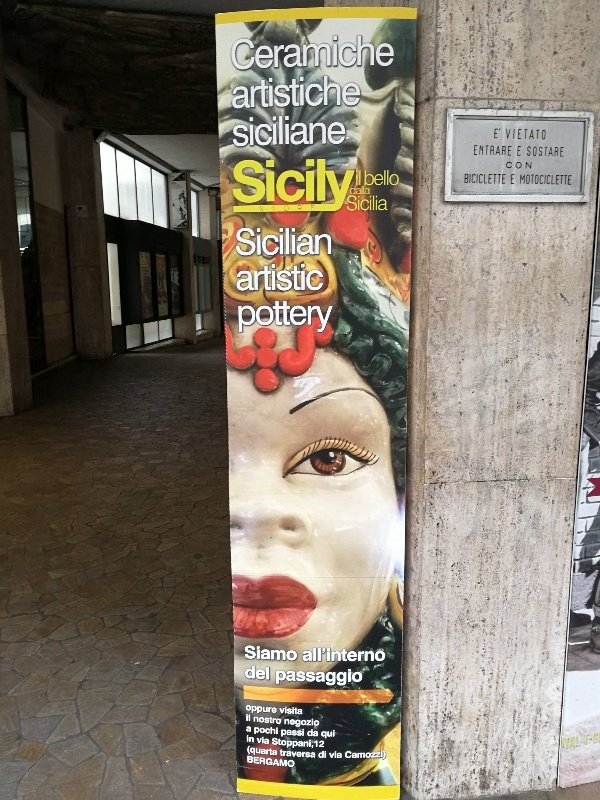text: (241, 159, 256, 216), (257, 159, 272, 216), (273, 159, 288, 216), (289, 159, 304, 216), (305, 159, 320, 216), (321, 159, 336, 216), (337, 159, 352, 216), (241, 32, 256, 72), (257, 32, 272, 72), (273, 32, 288, 72), (289, 32, 304, 72), (305, 32, 320, 72), (321, 32, 336, 72), (337, 32, 352, 72), (353, 32, 368, 72), (369, 32, 384, 72), (241, 298, 256, 336), (257, 298, 272, 336), (273, 298, 288, 336), (289, 298, 304, 336), (305, 298, 320, 336), (241, 114, 256, 150), (257, 114, 272, 150), (273, 114, 288, 150), (289, 114, 304, 150), (305, 114, 320, 150), (321, 114, 336, 150), (241, 260, 256, 296), (257, 260, 272, 296), (273, 260, 288, 296), (289, 260, 304, 296), (305, 260, 320, 296), (321, 298, 335, 336), (241, 78, 256, 112), (257, 78, 272, 112), (273, 78, 288, 112), (289, 78, 304, 112), (305, 78, 320, 112), (321, 78, 336, 112), (337, 78, 352, 112), (241, 226, 256, 258), (257, 226, 272, 258), (273, 226, 288, 258), (289, 226, 304, 258), (305, 226, 320, 258), (385, 32, 395, 72), (233, 159, 240, 216), (321, 226, 332, 258), (337, 114, 346, 150), (232, 32, 240, 72), (353, 78, 362, 112), (353, 159, 358, 216), (289, 669, 304, 688), (305, 669, 320, 688), (321, 669, 336, 688), (337, 669, 352, 688), (232, 78, 240, 112), (353, 194, 368, 212), (369, 194, 384, 212), (369, 170, 384, 187), (257, 645, 272, 662), (273, 645, 288, 662), (385, 170, 399, 187), (276, 669, 288, 688), (305, 648, 320, 663), (321, 648, 336, 663), (337, 648, 352, 663), (353, 648, 368, 663), (369, 648, 384, 663), (234, 114, 240, 150), (356, 170, 368, 187), (529, 145, 544, 158), (545, 145, 560, 158), (257, 666, 270, 681), (273, 737, 288, 750), (289, 737, 304, 750), (353, 669, 363, 688), (245, 645, 256, 662), (562, 736, 576, 749), (513, 129, 528, 141), (529, 129, 544, 141), (481, 145, 496, 157), (497, 145, 512, 157), (465, 173, 480, 185), (481, 173, 496, 185), (529, 174, 544, 186), (545, 174, 560, 186), (257, 756, 272, 768), (273, 756, 288, 768), (353, 185, 368, 196), (257, 746, 272, 757), (289, 645, 298, 662), (513, 160, 528, 170), (246, 666, 256, 681), (289, 749, 304, 759), (353, 751, 368, 761), (369, 751, 384, 761), (289, 729, 305, 738), (289, 706, 303, 716), (257, 705, 272, 714), (257, 716, 272, 725), (257, 727, 272, 736), (289, 719, 304, 728), (305, 719, 320, 728), (321, 730, 336, 739), (561, 174, 572, 186), (236, 226, 240, 258), (518, 145, 528, 157), (584, 732, 592, 747), (257, 736, 270, 745), (305, 737, 314, 750), (305, 749, 316, 759), (321, 260, 324, 296), (497, 173, 506, 185), (248, 756, 256, 768), (308, 729, 320, 737), (246, 705, 256, 714), (279, 706, 288, 716), (246, 714, 256, 723), (248, 746, 256, 757), (521, 174, 528, 186), (273, 716, 282, 725), (280, 749, 288, 759), (171, 271, 176, 287), (238, 298, 240, 336), (593, 732, 598, 747), (238, 260, 240, 296), (348, 194, 352, 212), (506, 129, 512, 141), (474, 145, 480, 157), (247, 735, 256, 743), (289, 756, 295, 768), (345, 751, 352, 761), (364, 170, 368, 187), (328, 751, 336, 759), (281, 729, 288, 738), (273, 746, 278, 757), (385, 194, 388, 212), (247, 726, 256, 732), (497, 128, 501, 141), (507, 160, 512, 170), (177, 271, 180, 287), (273, 705, 278, 714), (273, 727, 278, 736), (321, 751, 327, 758), (315, 740, 320, 748), (337, 751, 342, 759), (561, 145, 564, 158), (577, 736, 580, 749), (321, 740, 325, 748), (529, 160, 532, 170), (285, 719, 288, 728), (494, 128, 496, 141), (513, 173, 515, 186), (81, 210, 87, 214), (369, 185, 371, 196), (385, 751, 387, 761), (171, 268, 176, 272), (254, 716, 256, 725), (303, 648, 304, 663), (385, 648, 386, 663), (527, 145, 528, 158), (511, 173, 512, 186), (545, 129, 546, 141), (172, 182, 176, 185), (351, 185, 352, 196), (255, 727, 256, 736), (78, 210, 80, 214), (177, 268, 179, 272), (319, 751, 320, 758)
